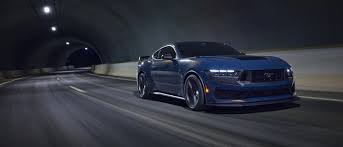car: (132, 40, 302, 111)
